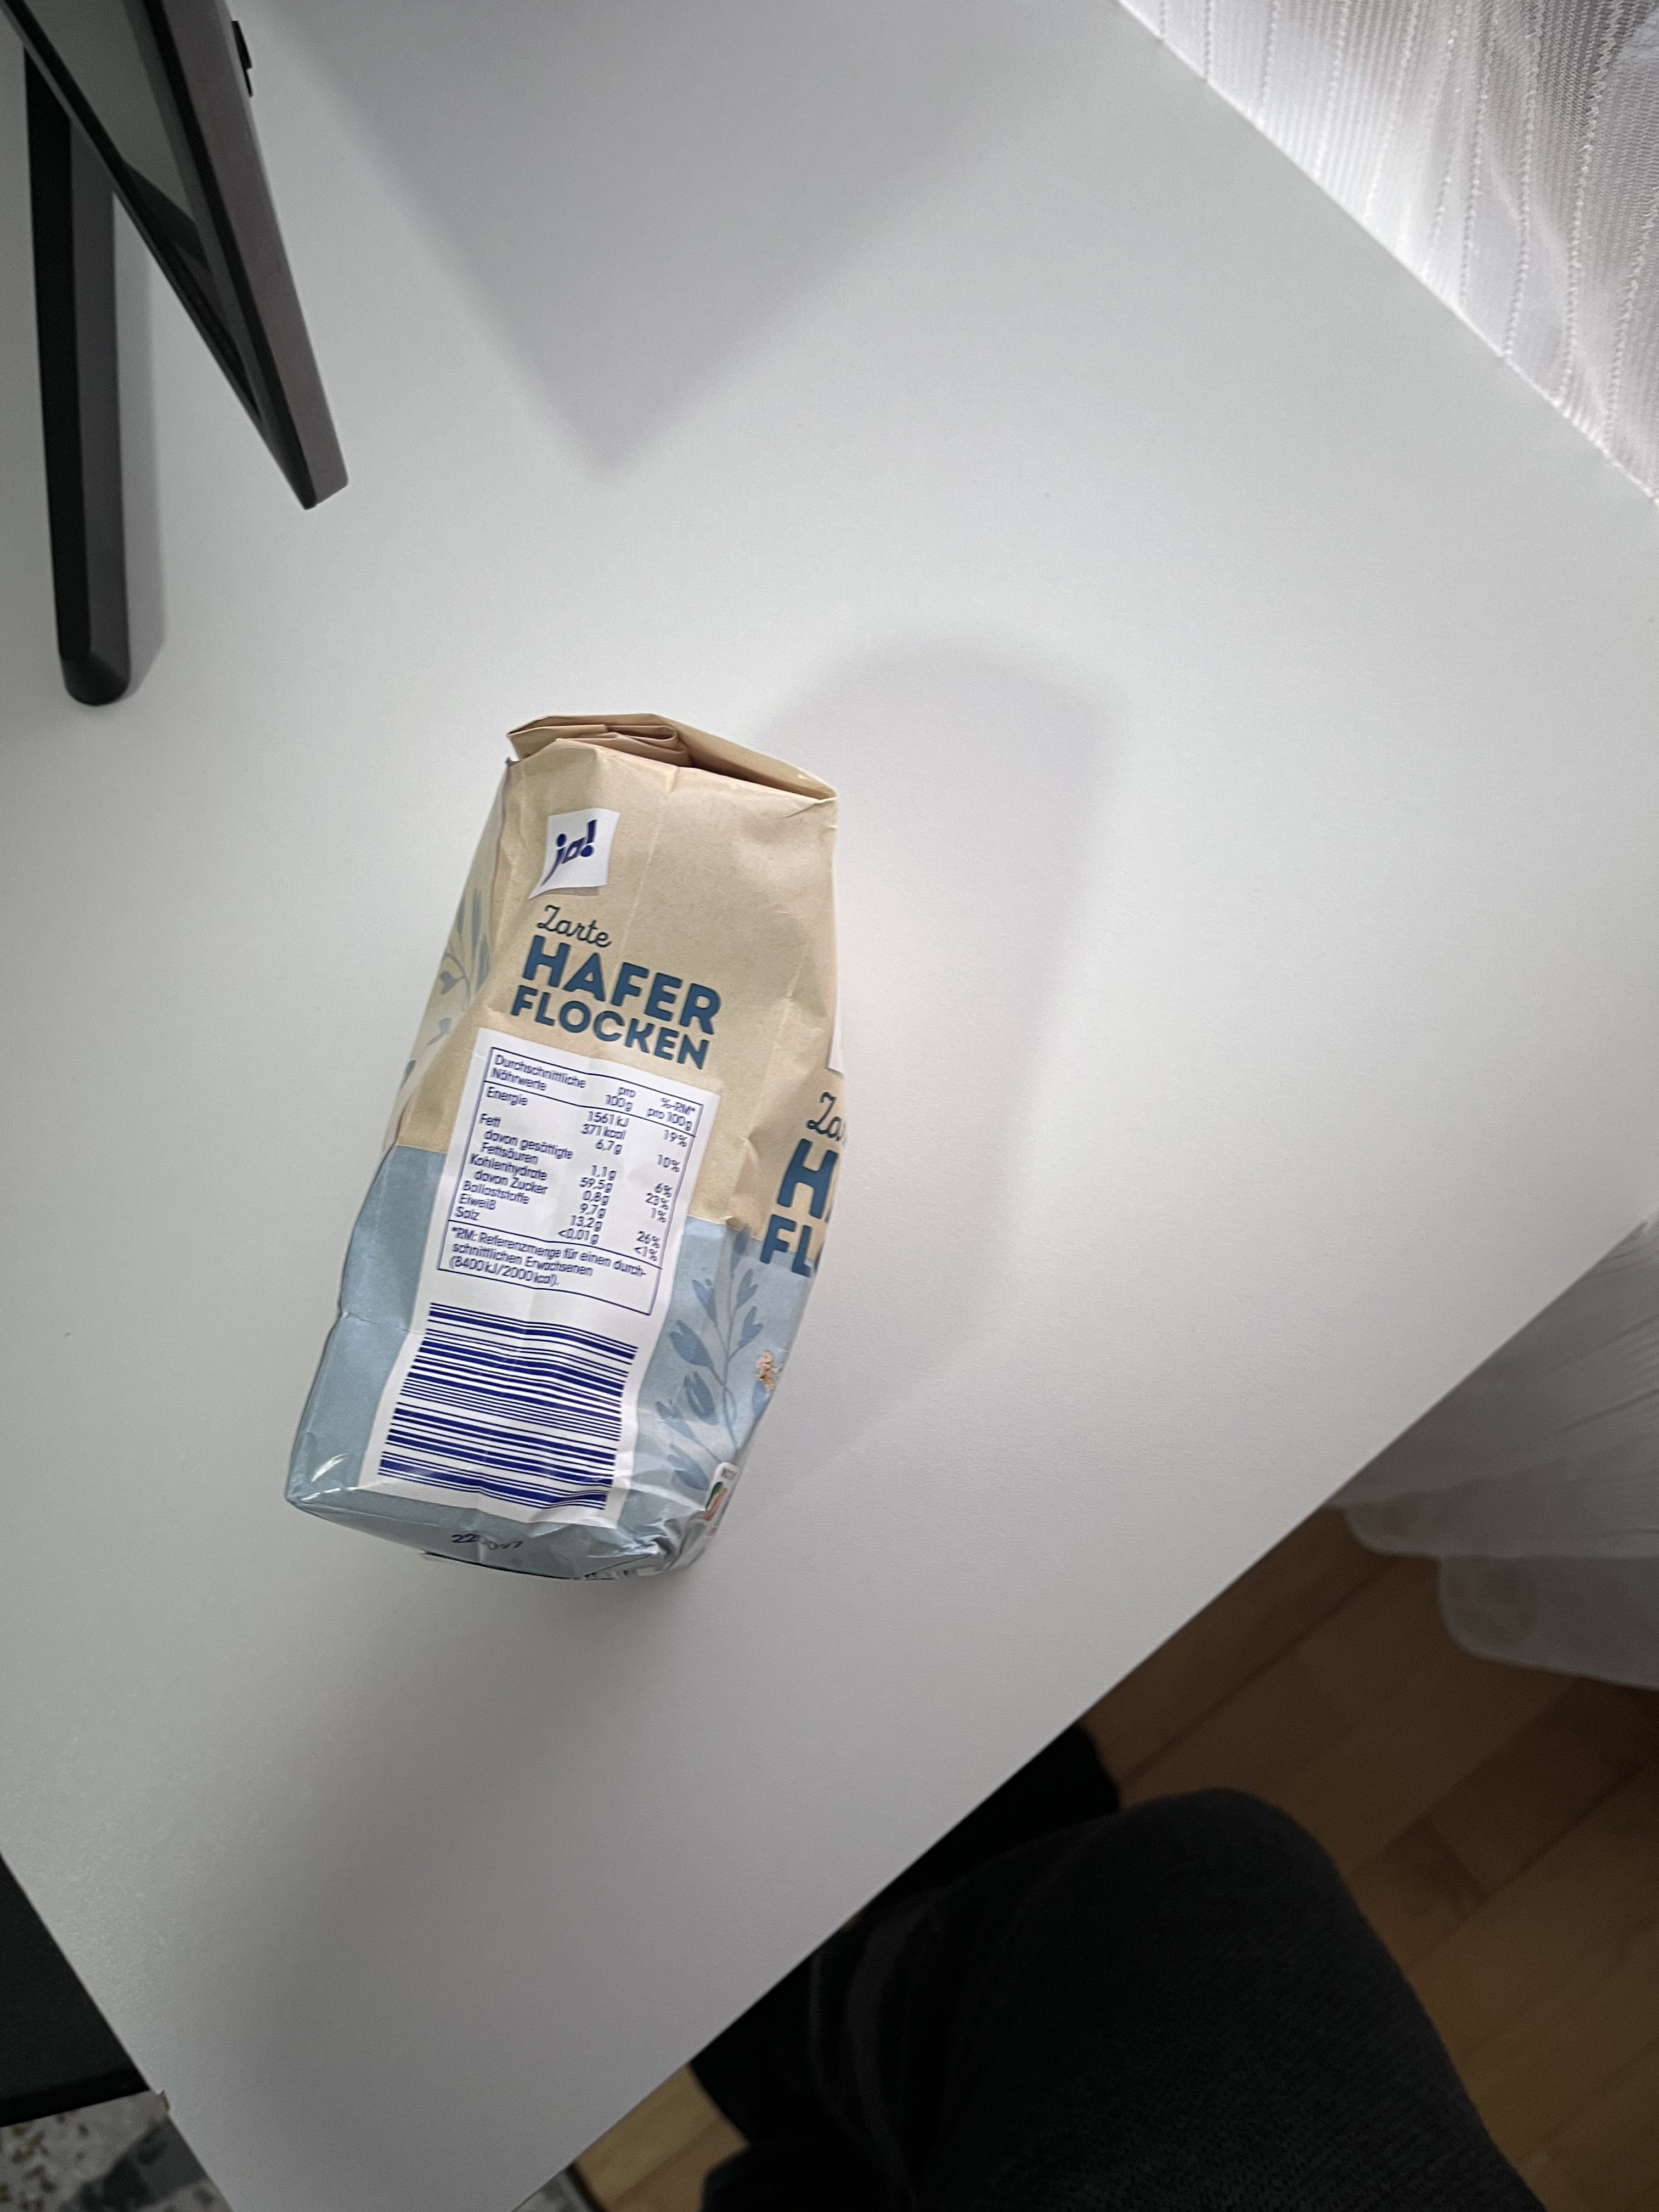haferflocken_ja: (282, 711, 843, 1587)
